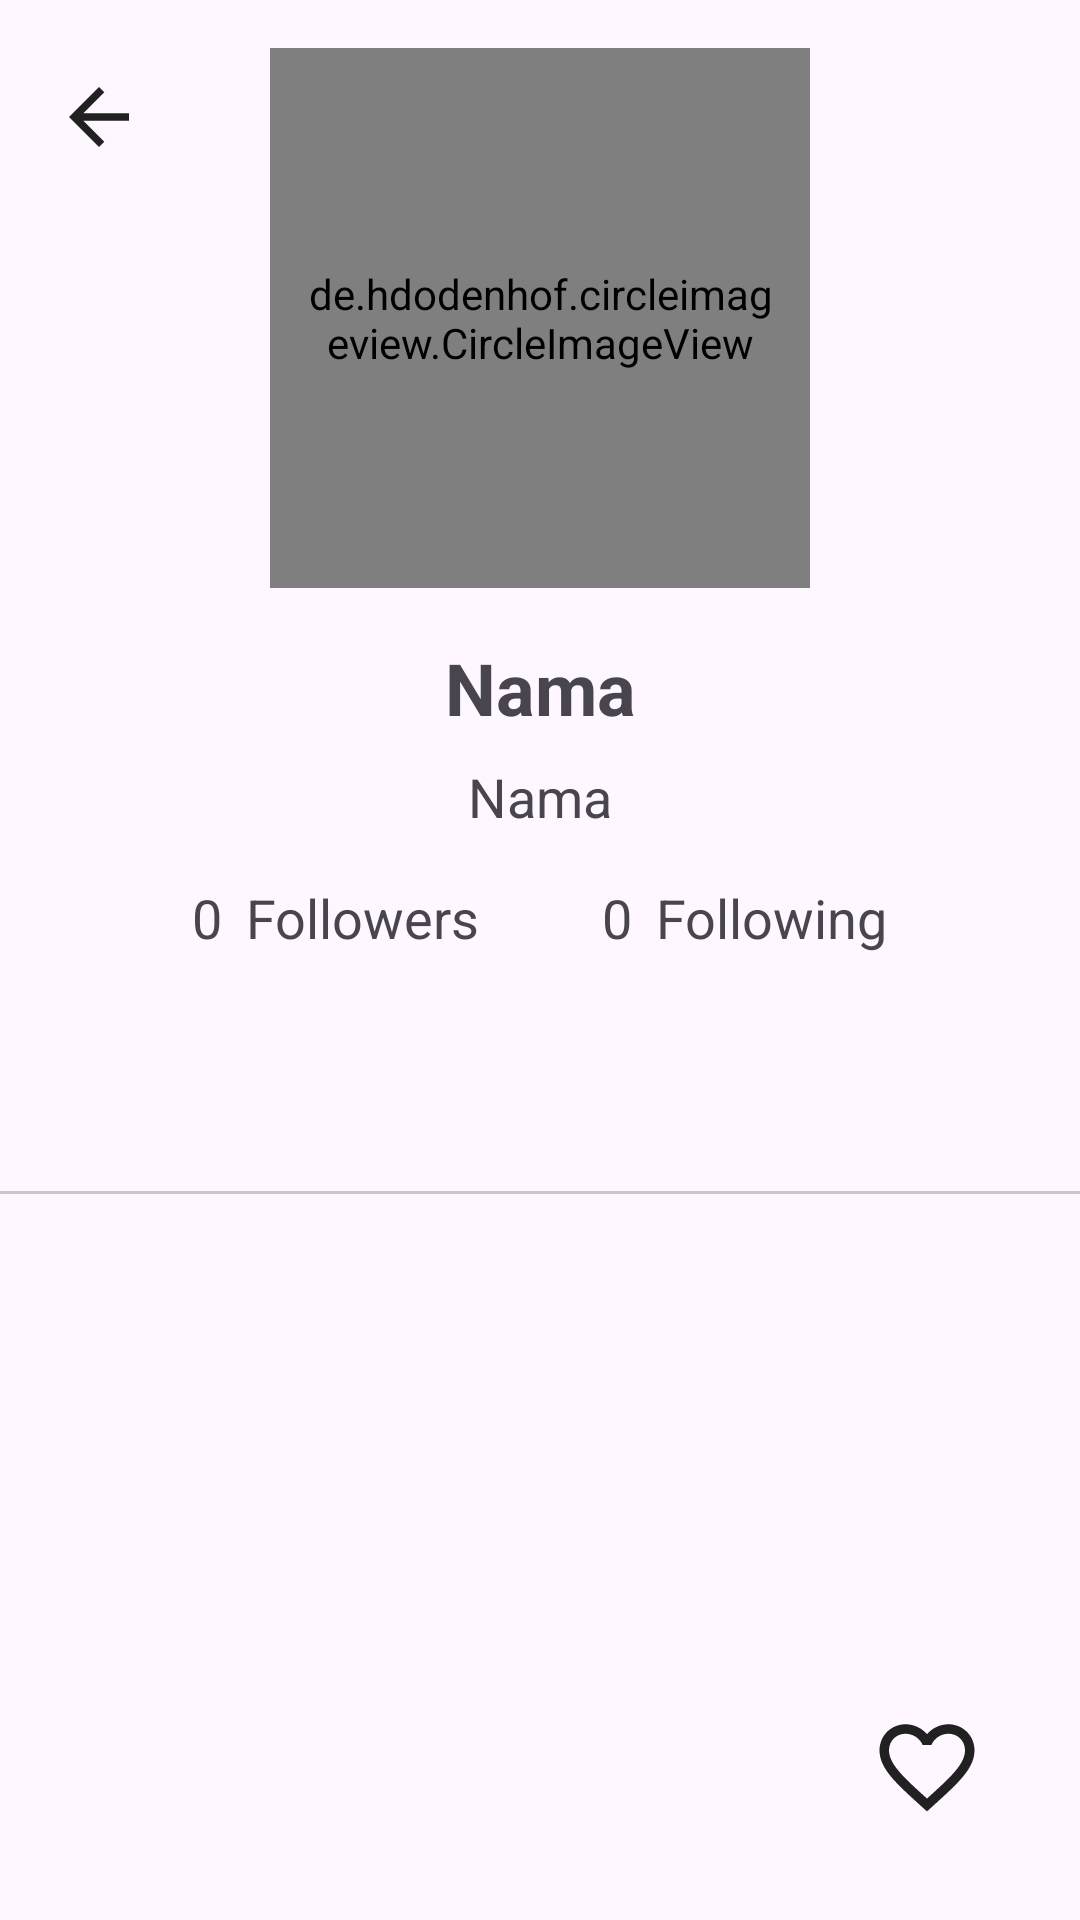

Screen size 1080x1920. Icon name, then its center in pixels as (x,y):
back: (99,117)
favorite border: (927,1767)
